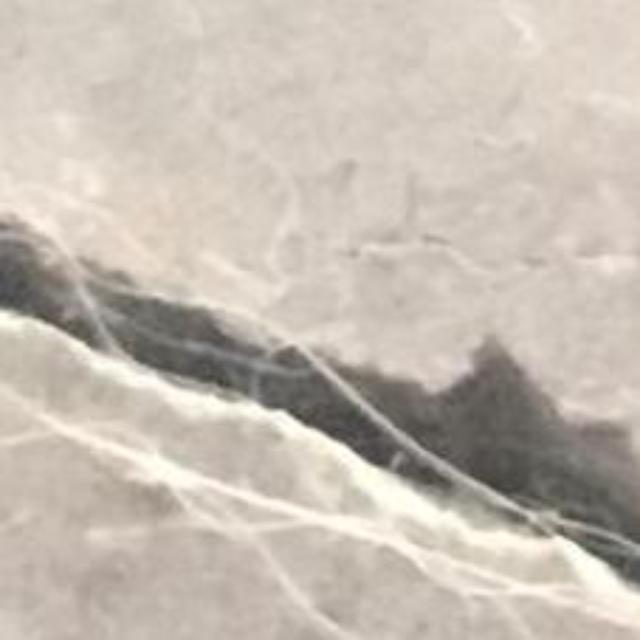crack: (0, 220, 639, 608)
